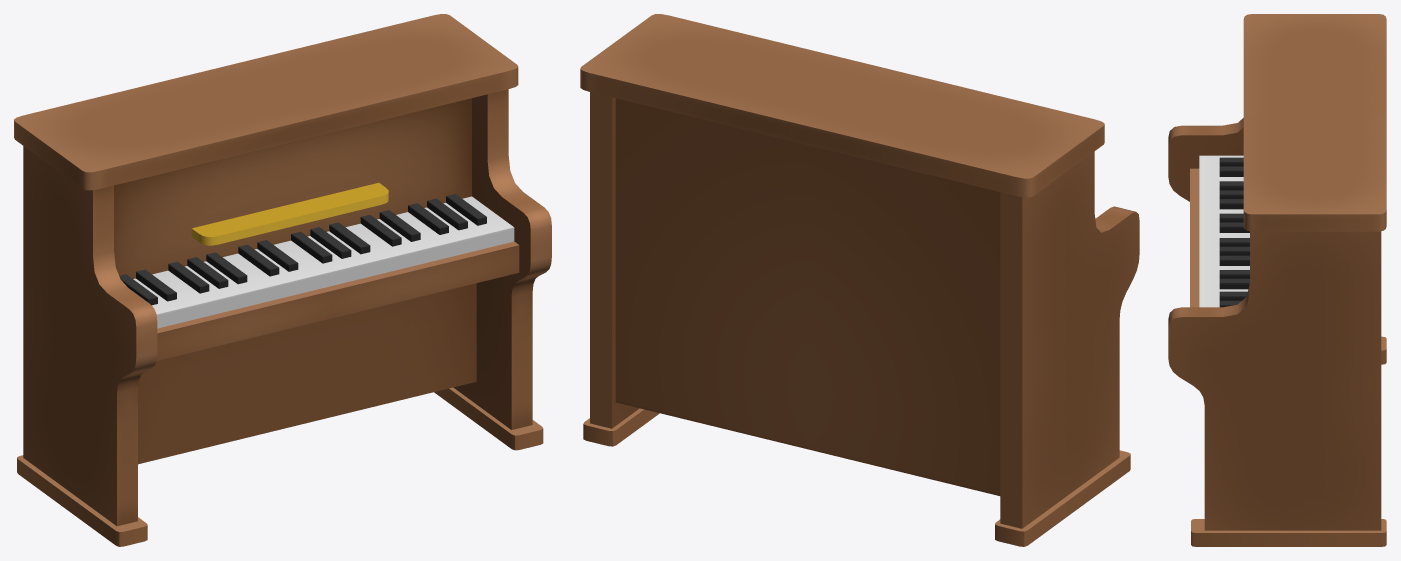
File: ENV2010103.fbx
3 renders of one model, left to right at view 1: azimuth 30°, elevation 25°; view 2: azimuth 150°, elevation 25°; view 3: azimuth 270°, elevation 25°, orthographic. The views are drawn at different scales.
Parts seen in each view (by area): view 1: smENV2010103; view 2: smENV2010103; view 3: smENV2010103.
Part boxes in pixels (box(x1,y1,x2,y2)): smENV2010103: box(14, 14, 551, 546); smENV2010103: box(580, 14, 1139, 546); smENV2010103: box(1168, 14, 1386, 546).
Size of the model in its own units: 106 by 82.78 by 49.01.
Materials: 1 (1 with a texture image).
